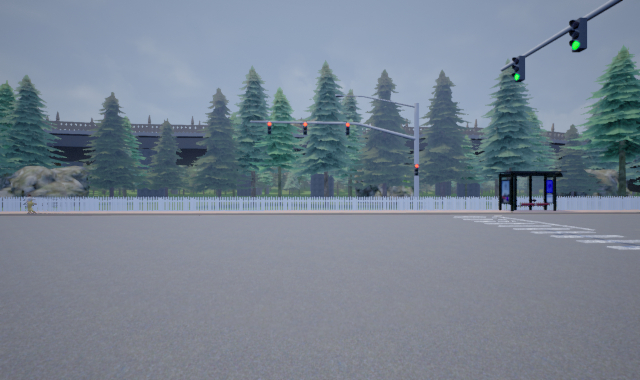pedestrian: (19, 191, 40, 213)
traffic_light: (568, 15, 589, 54), (510, 53, 525, 84), (267, 120, 272, 136), (345, 122, 350, 138), (415, 163, 420, 178), (303, 122, 307, 136)
